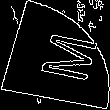M_W: (19, 26, 91, 84)
